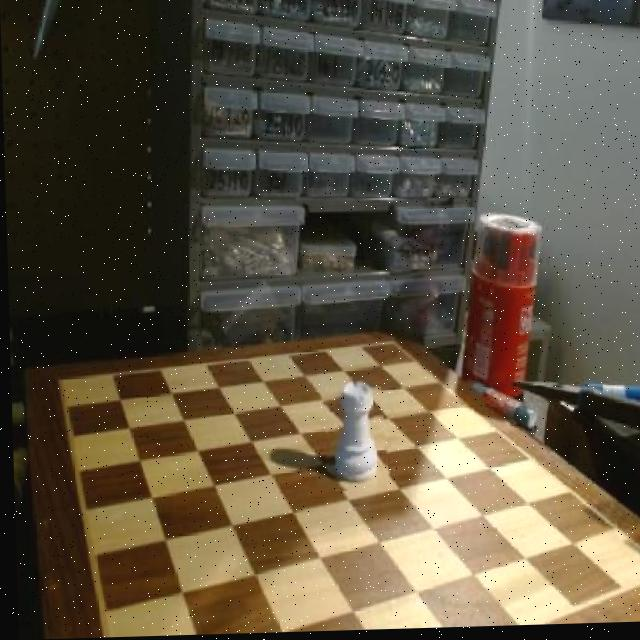white-queen: (320, 381, 386, 494)
